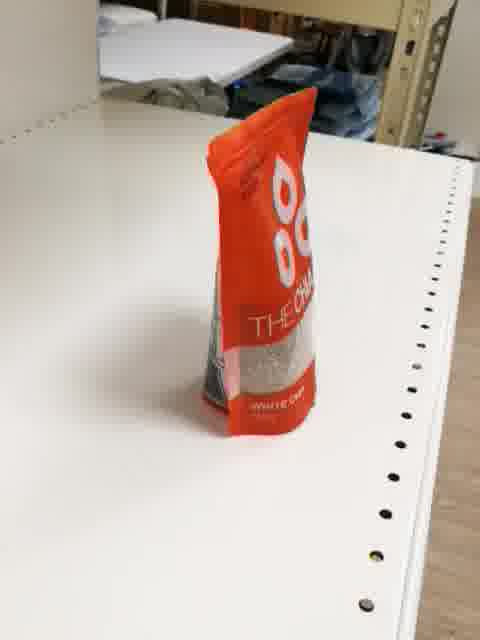whitechia: (199, 81, 328, 441)
